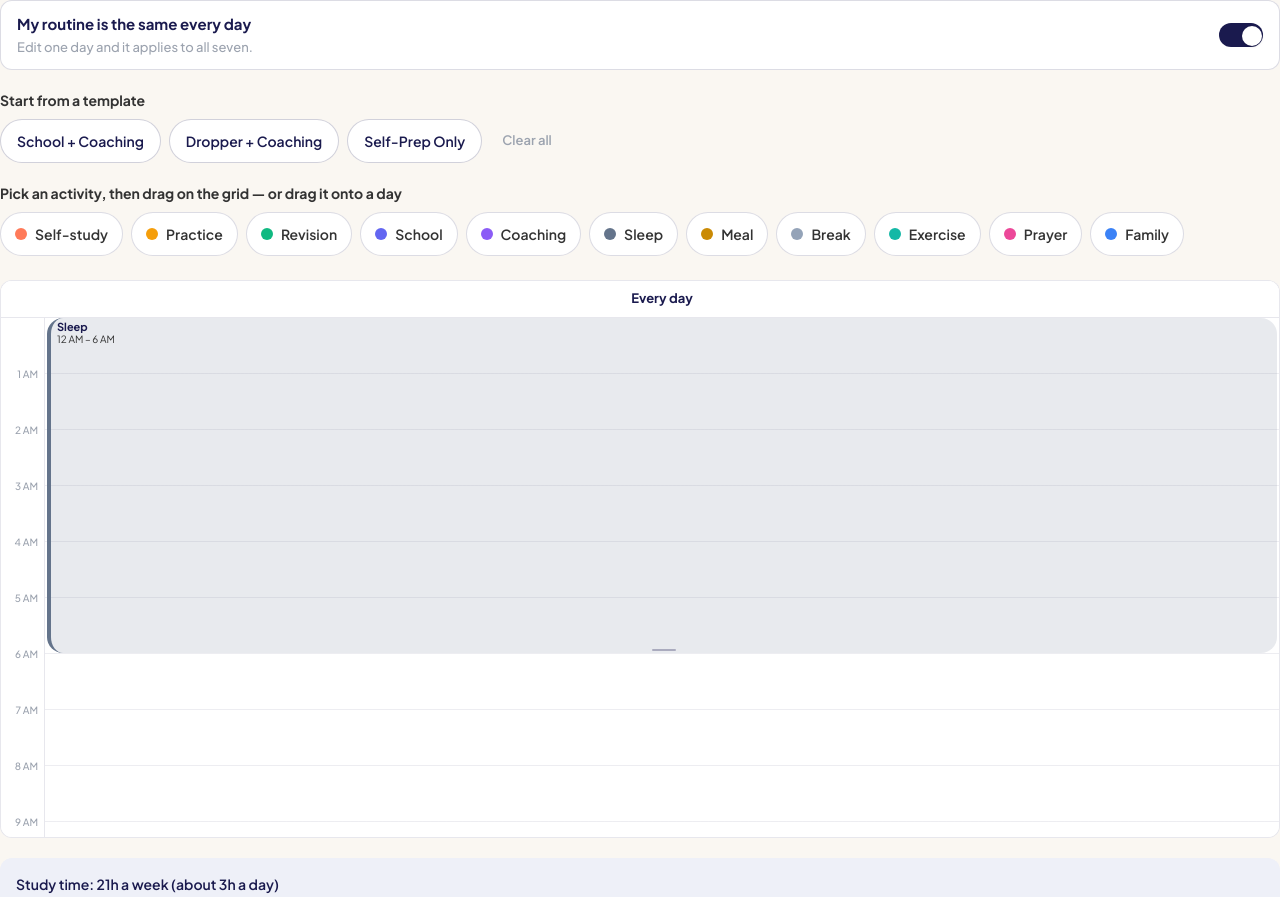
Test case: the starter template › opens day by day when a starter week differs between days, rather than flattening it
This screenshot has width=1280, height=897.
Step 1. Click the button with test id "template-SCHOOL_COACHING" → [80, 141], box top-left (0, 119), bottom-right (161, 163)
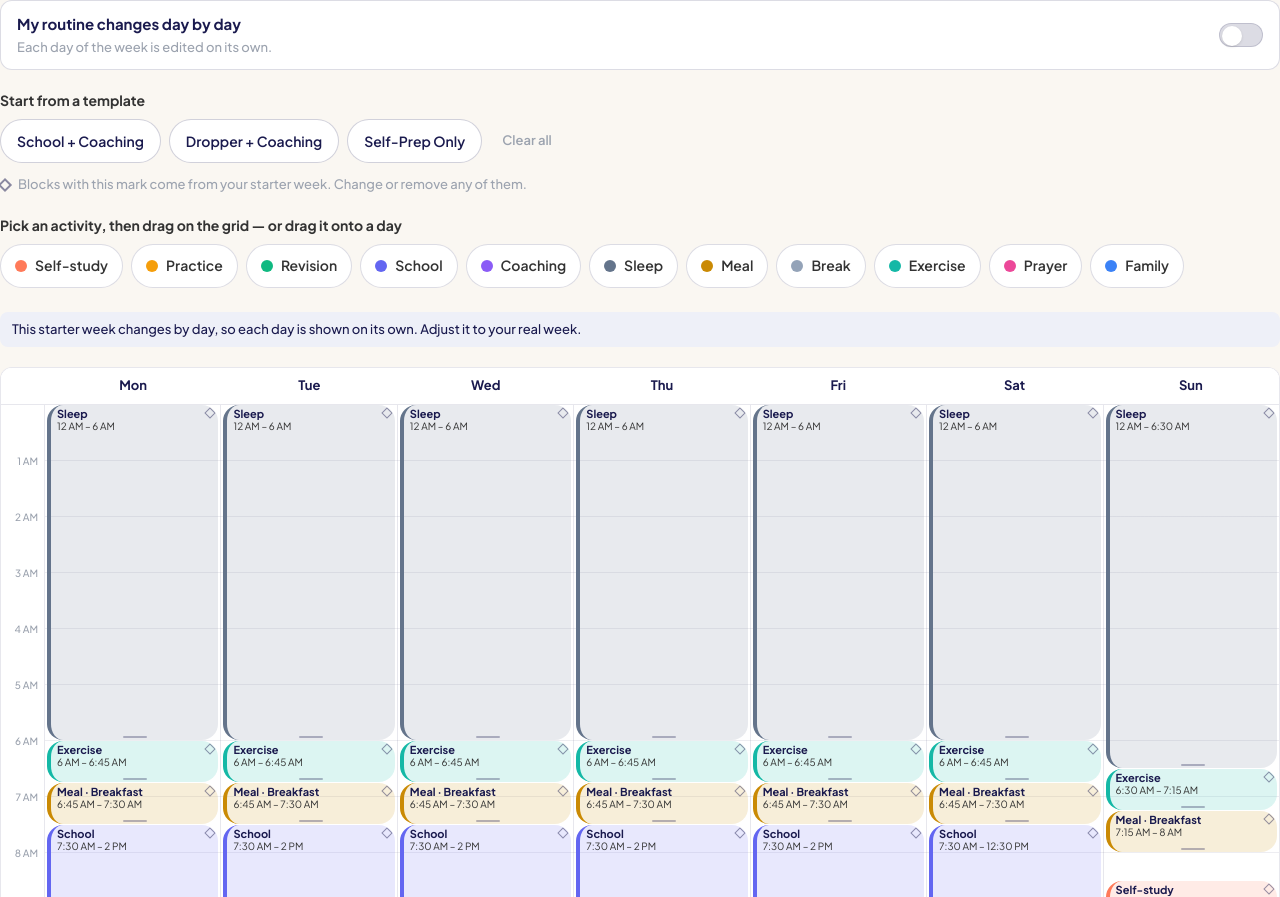
Result: the message shows "changes by day" at top-left (12, 320), bottom-right (581, 336)
